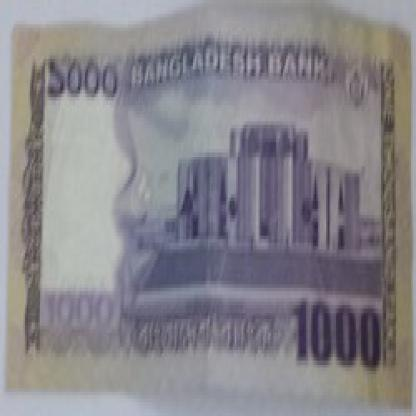One Thousand taka: (290, 291, 384, 378), (45, 59, 118, 104), (43, 291, 118, 333)
